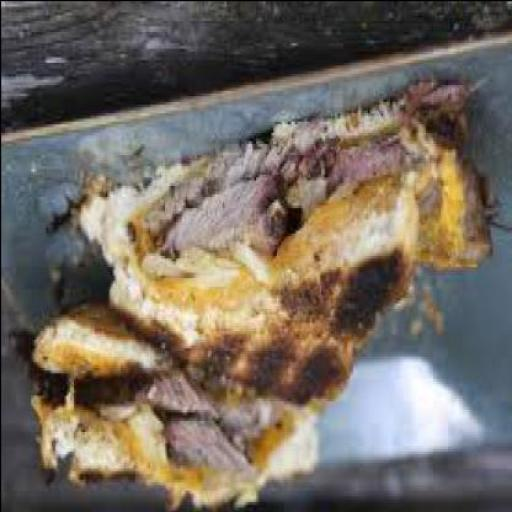biodegradable: (70, 84, 492, 414), (27, 312, 324, 510), (166, 416, 255, 476), (137, 364, 201, 420), (218, 394, 276, 448)
